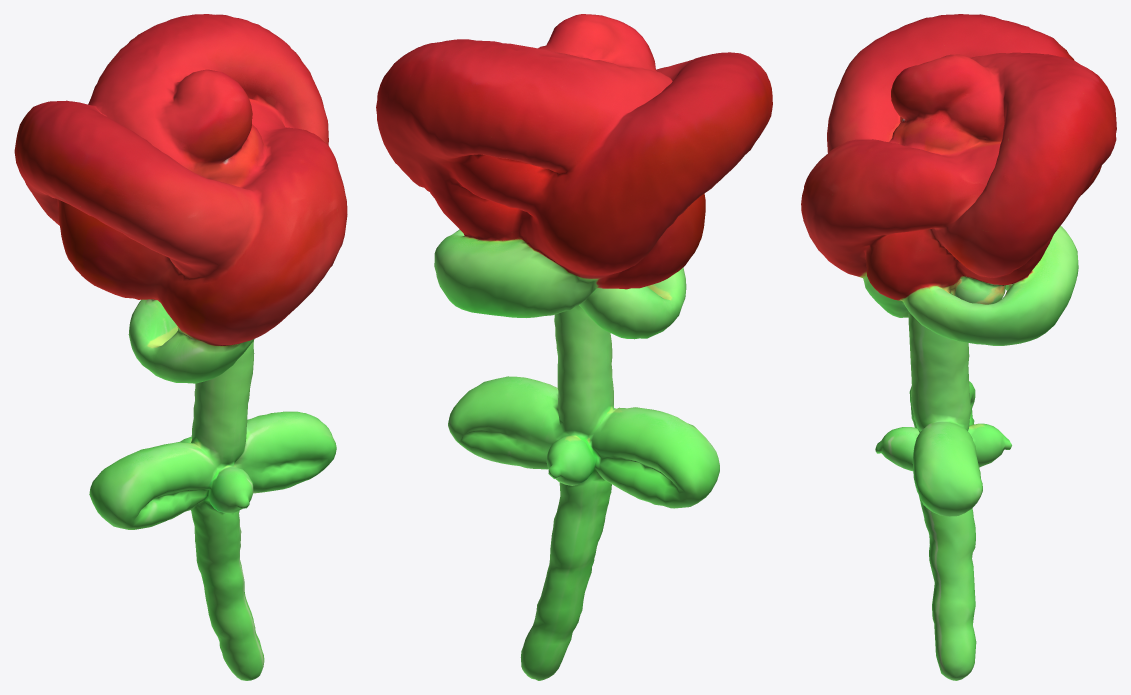
File: red-flower-balloon-ani.glb
The picture shows the model from 3 angles, left to right: view 1: azimuth 30°, elevation 25°; view 2: azimuth 150°, elevation 25°; view 3: azimuth 270°, elevation 25°; orthographic projection. The views are drawn at different scales.
Parts seen in each view (by area): view 1: Mesh_0; view 2: Mesh_0; view 3: Mesh_0.
Boxes of the visible parts, left/top/right/bottom form: Mesh_0: left=14, top=14, right=347, bottom=680; Mesh_0: left=376, top=14, right=772, bottom=680; Mesh_0: left=801, top=14, right=1116, bottom=680.
Size of the model in its own units: 0.9976 by 1.91 by 0.9036.
Materials: 1 (1 with a texture image).
